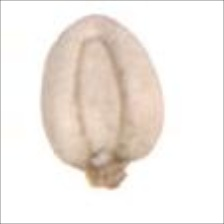L5: (73, 35, 127, 152), (79, 147, 133, 191), (71, 11, 125, 34)
L6: (41, 13, 171, 192)
